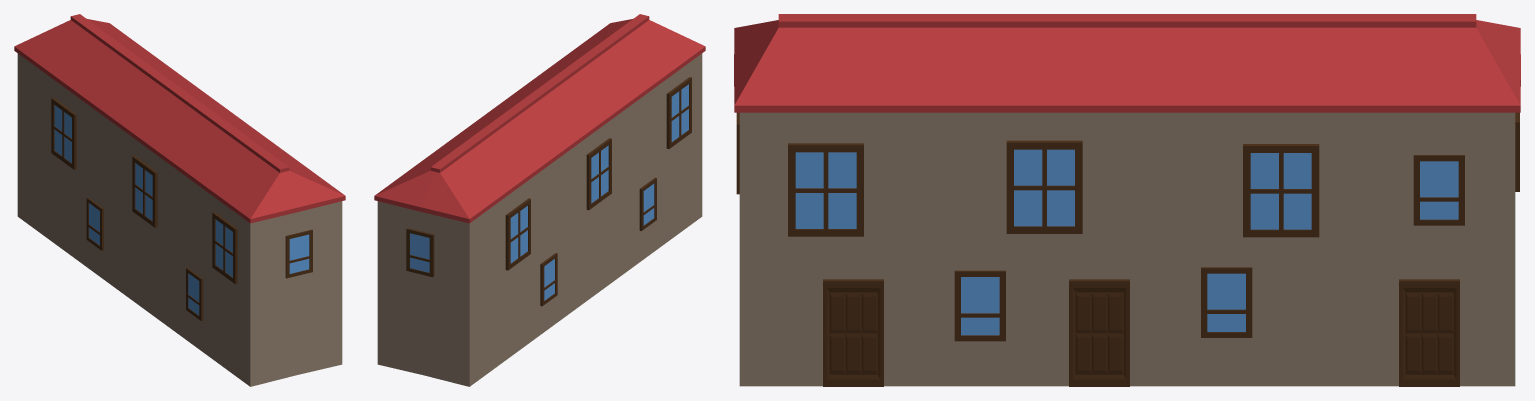
File: House2.fbx
3 renders of one model, left to right at view 1: azimuth 30°, elevation 25°; view 2: azimuth 150°, elevation 25°; view 3: azimuth 270°, elevation 25°, orthographic. The views are drawn at different scales.
Visible parts, largest first — view 1: Casa2, VentanaGrande.004, VentanaGrande.003, VentanaGrande.005, VentanaChica.004, VentanaChica.006, VentanaChica.005; view 2: Casa2, VentanaGrande.005, VentanaGrande.004, VentanaGrande.003, VentanaChica.003, VentanaChica.006, VentanaChica.005; view 3: Casa2, VentanaGrande.001, VentanaGrande.002, VentanaGrande, Puerta, Puerta2, Puerta3, VentanaChica, VentanaChica.001, VentanaChica.002.
Boxes of the visible parts, x1=… form: Casa2: x1=14, y1=14, x2=345, y2=386; VentanaGrande.004: x1=132, y1=156, x2=157, y2=227; VentanaGrande.003: x1=212, y1=212, x2=237, y2=284; VentanaGrande.005: x1=51, y1=98, x2=76, y2=169; VentanaChica.004: x1=285, y1=229, x2=312, y2=278; VentanaChica.006: x1=86, y1=197, x2=103, y2=250; VentanaChica.005: x1=186, y1=267, x2=203, y2=320; Casa2: x1=374, y1=14, x2=705, y2=386; VentanaGrande.005: x1=505, y1=198, x2=530, y2=270; VentanaGrande.004: x1=586, y1=138, x2=611, y2=210; VentanaGrande.003: x1=666, y1=77, x2=691, y2=148; VentanaChica.003: x1=406, y1=228, x2=434, y2=277; VentanaChica.006: x1=540, y1=253, x2=557, y2=306; VentanaChica.005: x1=639, y1=177, x2=656, y2=230; Casa2: x1=734, y1=14, x2=1520, y2=386; VentanaGrande.001: x1=1006, y1=140, x2=1082, y2=233; VentanaGrande.002: x1=1243, y1=144, x2=1319, y2=237; VentanaGrande: x1=788, y1=143, x2=863, y2=236; Puerta: x1=823, y1=279, x2=883, y2=386; Puerta2: x1=1069, y1=279, x2=1129, y2=386; Puerta3: x1=1399, y1=279, x2=1459, y2=386; VentanaChica: x1=954, y1=270, x2=1005, y2=341; VentanaChica.001: x1=1201, y1=267, x2=1252, y2=337; VentanaChica.002: x1=1413, y1=155, x2=1464, y2=225.
Bounding box in the file's own units: 1248 × 2403 × 5172.
